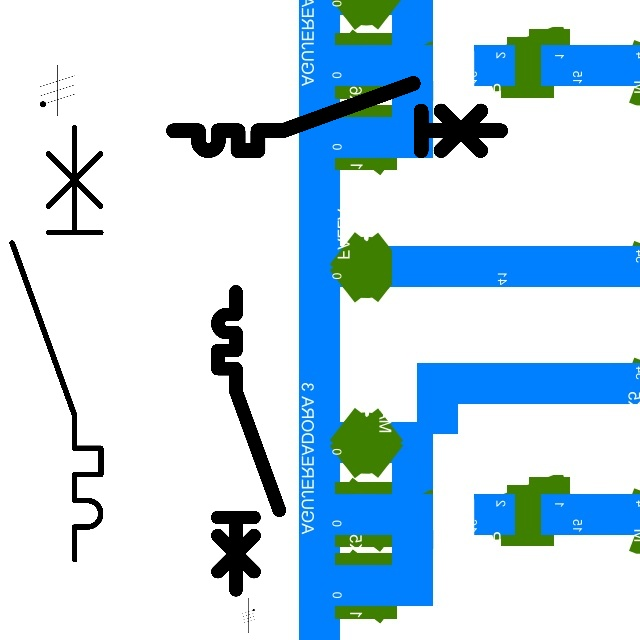interruptor_termomagnetico: (1, 116, 112, 571), (165, 75, 509, 159), (210, 284, 286, 597)
